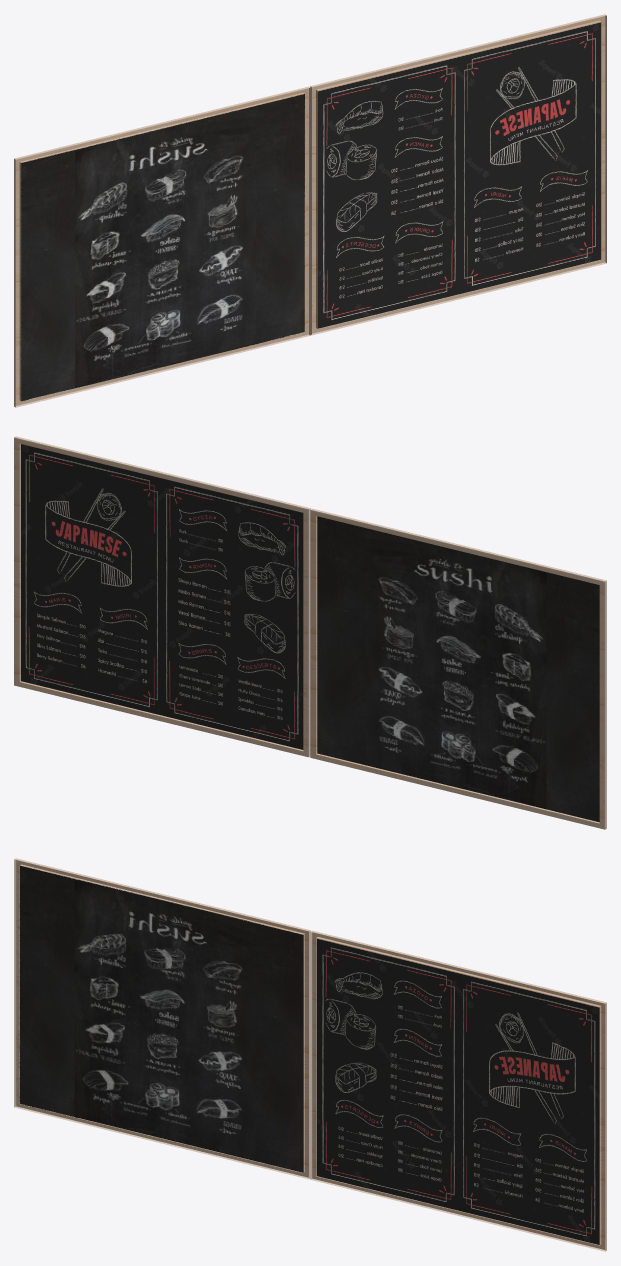
The model's file is Menu.fbx.
The picture shows the model from 3 angles, top to bottom: view 1: azimuth 30°, elevation 25°; view 2: azimuth 150°, elevation 25°; view 3: azimuth 330°, elevation 25°; orthographic projection.
Visible parts, largest first — view 1: Painting 1.005, Painting 1.006; view 2: Painting 1.005, Painting 1.006; view 3: Painting 1.005, Painting 1.006.
Part boxes in pixels (x1,y1,x2,y2): Painting 1.005: [310, 14, 606, 335]; Painting 1.006: [14, 86, 310, 407]; Painting 1.005: [14, 436, 310, 757]; Painting 1.006: [310, 508, 606, 829]; Painting 1.005: [310, 930, 606, 1251]; Painting 1.006: [14, 858, 310, 1179].
Bounding box in the file's own units: 255 × 102 × 1.27.
